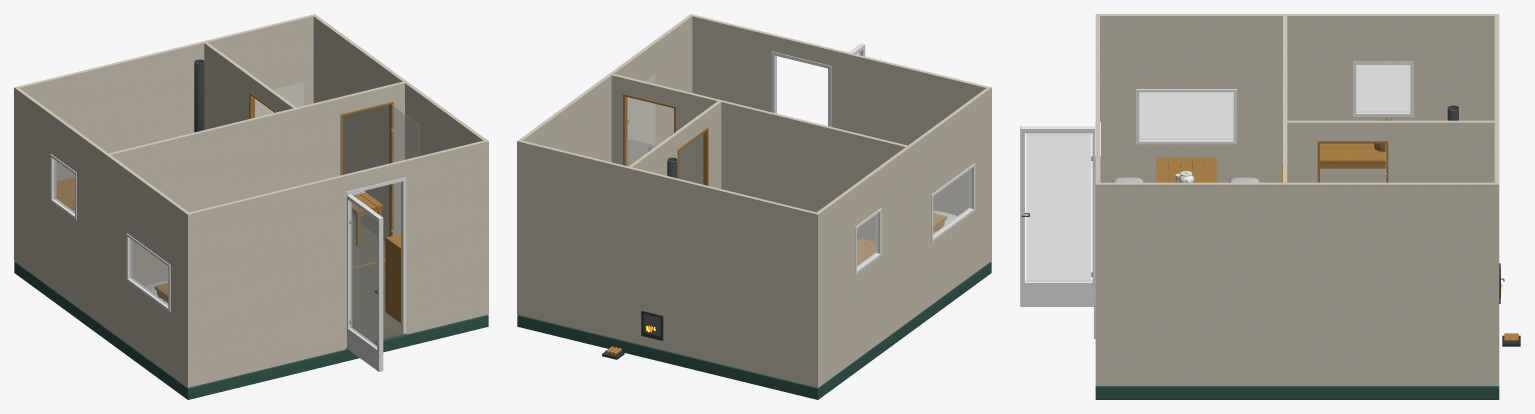
3 renders of one model, left to right at view 1: azimuth 30°, elevation 25°; view 2: azimuth 150°, elevation 25°; view 3: azimuth 270°, elevation 25°, orthographic. The views are drawn at different scales.
Parts seen in each view (by area): view 1: Wall front band 2, Wall front band 6, Wall front band 5, Wall front band 7, Wall front band 4, Foundation, Wall front band 1, Wall rear band 7, Wall front band 8, Wall top_6_0004 band 8, Wall top_6_0004 band 7, Wall rear band 8 (+38 smaller); view 2: Wall rear band 2, Wall rear band 5, Wall rear band 6, Wall rear band 7, Wall rear band 4, Wall rear band 1, Foundation, Wall rear band 8, Wall front band 8, Wall top_6_0004 band 8, Wall front band 7, Wall left band 2 (+28 smaller); view 3: Wall right band 2, Wall right band 5, Wall right band 4, Wall right band 6, Wall right band 7, Wall left band 7, Wall right band 1, Single PVC glass panel, Wall left band 6, Wall right band 8, Wall left band 8, Wall left band 5 (+21 smaller).
Part boxes in pixels (x1,y1,x2,y2): Wall front band 2: [186, 255, 488, 354]; Wall front band 6: [186, 180, 488, 277]; Wall front band 5: [186, 204, 488, 301]; Wall front band 7: [186, 157, 488, 253]; Wall front band 4: [186, 228, 488, 324]; Foundation: [14, 261, 488, 399]; Wall front band 1: [186, 281, 488, 377]; Wall rear band 7: [14, 32, 313, 127]; Wall front band 8: [186, 140, 488, 230]; Wall top_6_0004 band 8: [109, 81, 404, 166]; Wall top_6_0004 band 7: [127, 99, 404, 184]; Wall rear band 8: [14, 14, 316, 104]; Wall rear band 2: [517, 255, 819, 354]; Wall rear band 5: [517, 204, 819, 301]; Wall rear band 6: [517, 180, 819, 277]; Wall rear band 7: [517, 157, 819, 253]; Wall rear band 4: [517, 228, 819, 324]; Wall rear band 1: [517, 281, 819, 377]; Foundation: [517, 261, 991, 399]; Wall rear band 8: [517, 140, 819, 230]; Wall front band 8: [689, 14, 991, 104]; Wall top_6_0004 band 8: [611, 74, 907, 158]; Wall front band 7: [692, 32, 991, 127]; Wall left band 2: [820, 203, 989, 352]; Wall right band 2: [1100, 317, 1494, 347]; Wall right band 5: [1100, 257, 1494, 285]; Wall right band 4: [1100, 285, 1494, 312]; Wall right band 6: [1100, 230, 1494, 257]; Wall right band 7: [1100, 203, 1494, 230]; Wall left band 7: [1100, 34, 1494, 61]; Wall right band 1: [1100, 347, 1494, 373]; Single PVC glass panel: [1026, 133, 1090, 281]; Wall left band 6: [1100, 61, 1494, 88]; Wall right band 8: [1100, 182, 1494, 202]; Wall left band 8: [1100, 14, 1494, 34]; Wall left band 5: [1100, 89, 1494, 116].
Bounding box in the file's own units: 4.01 × 2.36 × 4.95.
34 materials, 15 textured.
